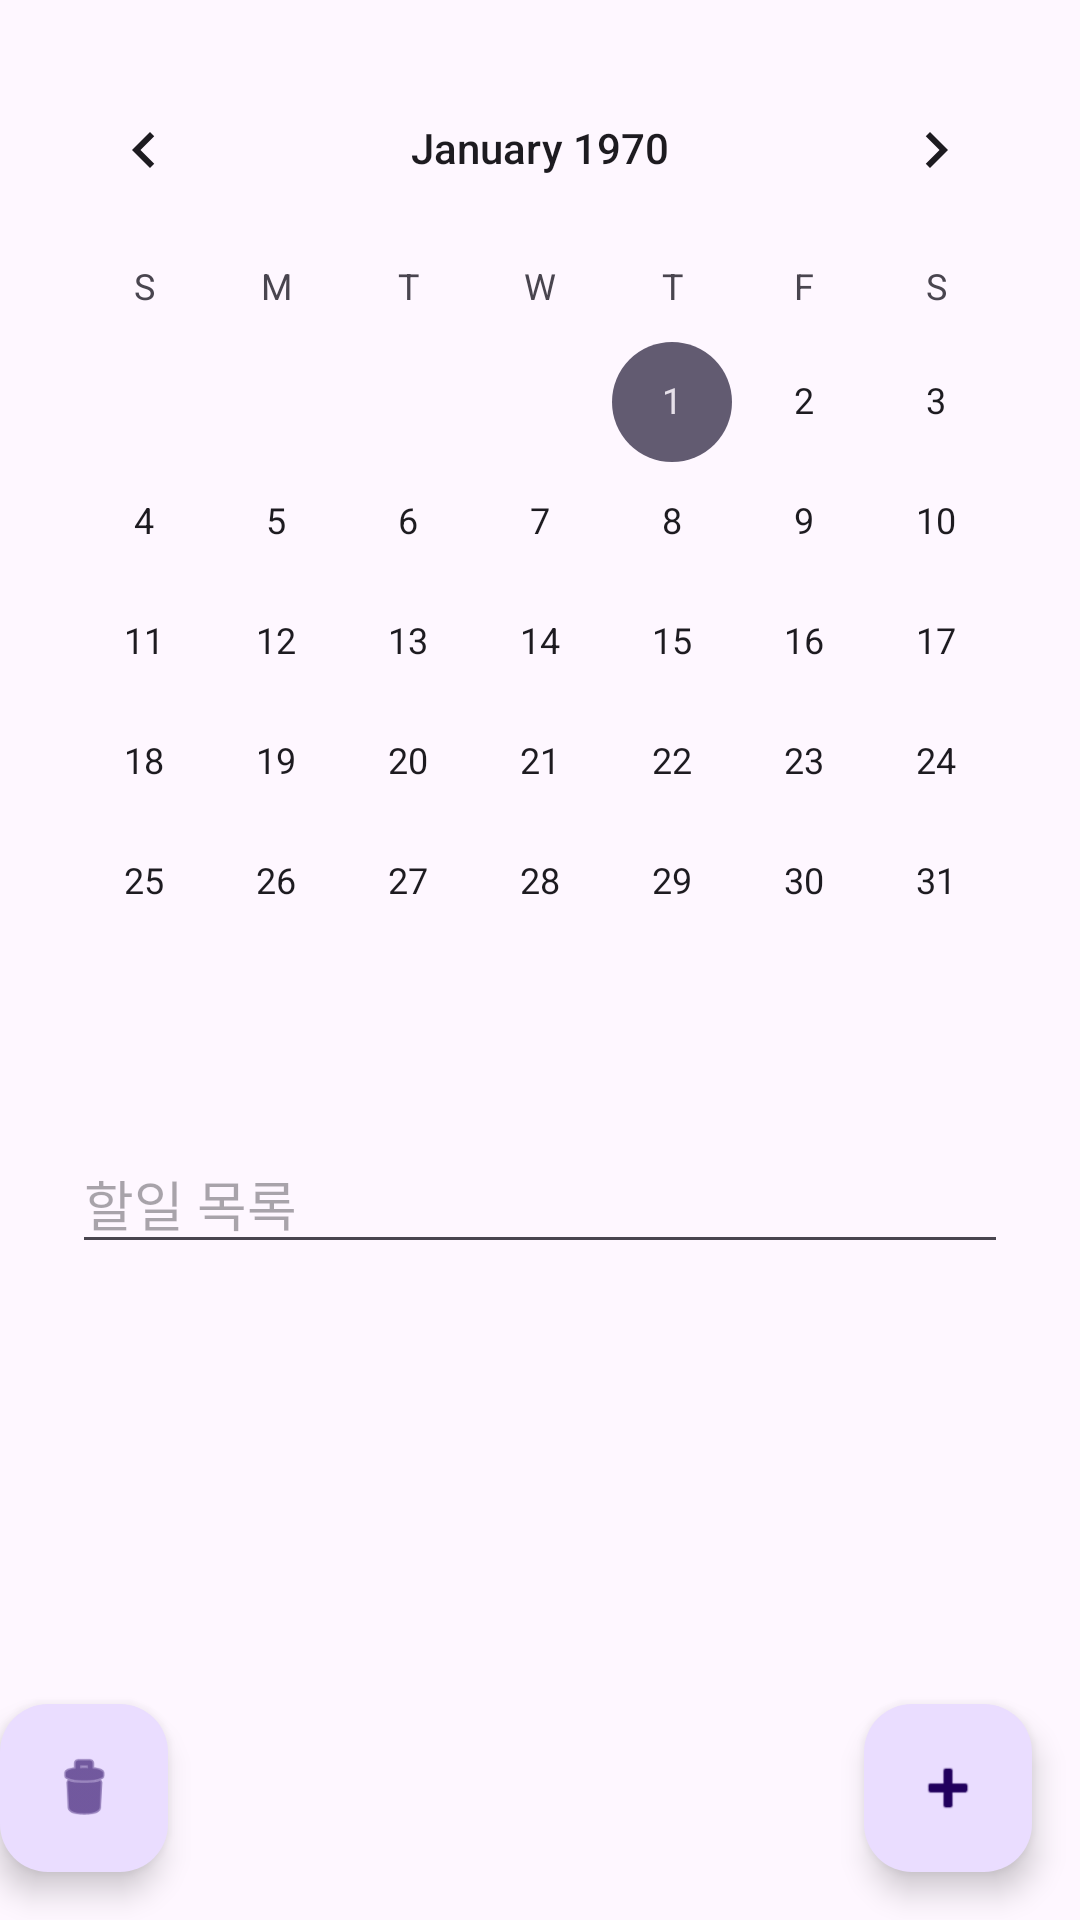

Where to tap for icons on this 1080px x 1920px app screen, as (x,y):
add: (948,1788)
delete: (84,1788)
